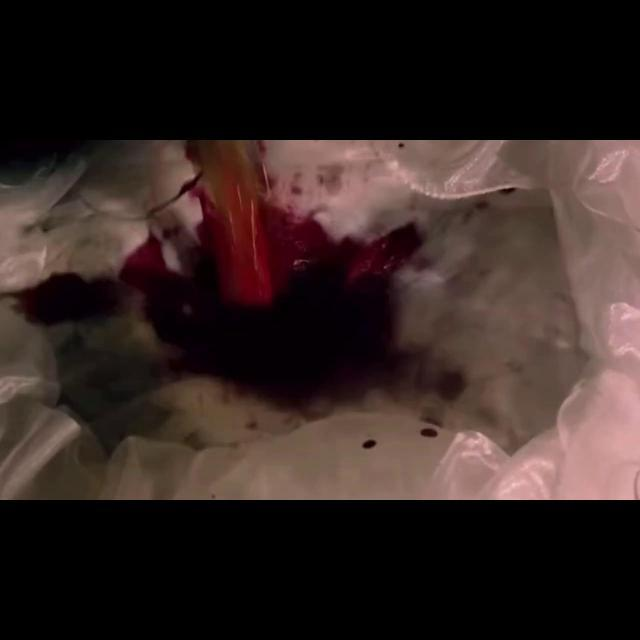blood: (0, 140, 480, 497)
